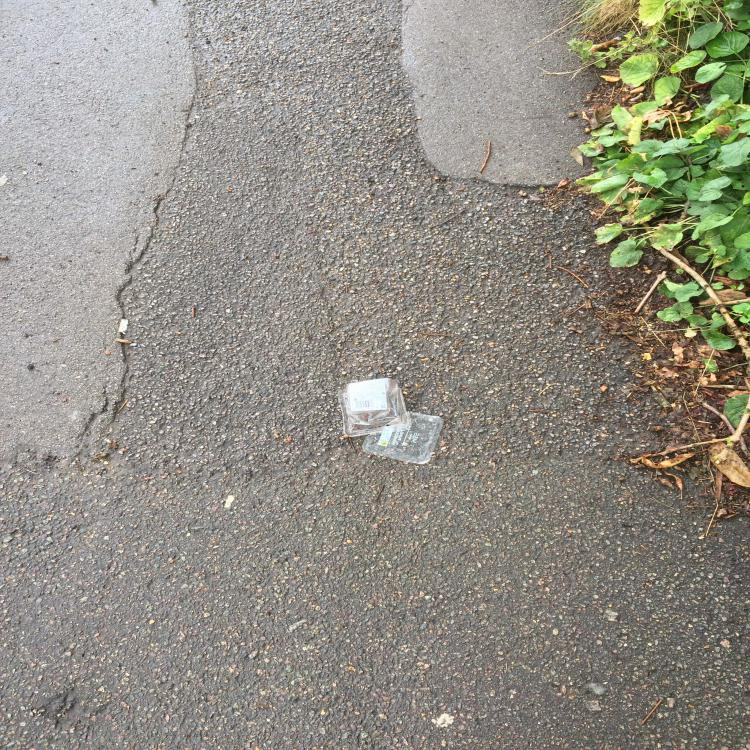Cigarette: (119, 319, 129, 335)
Plastic film: (362, 411, 443, 464)
